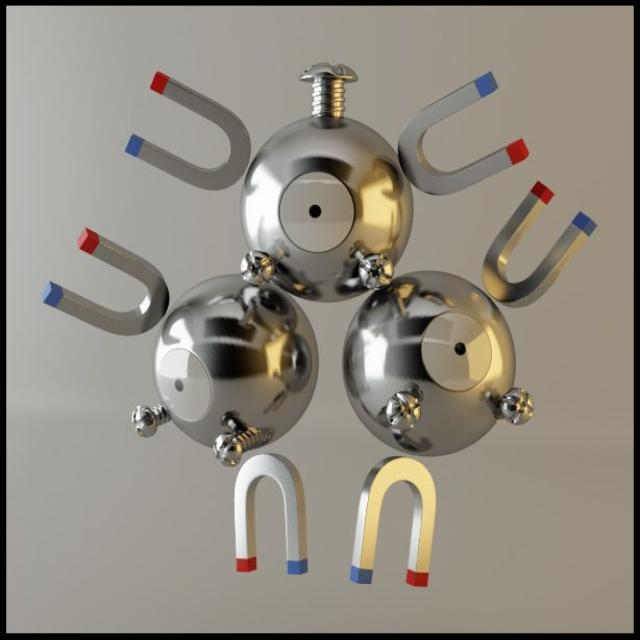Magneton: (113, 52, 546, 460)
